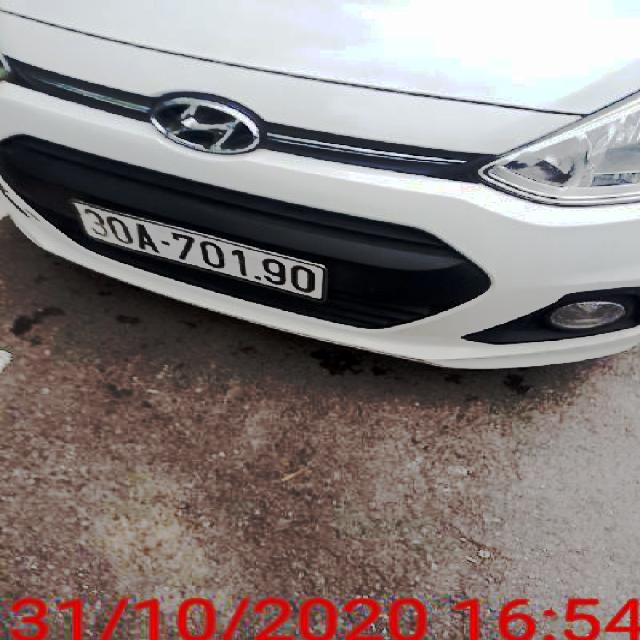license_plate: (73, 199, 326, 300)
